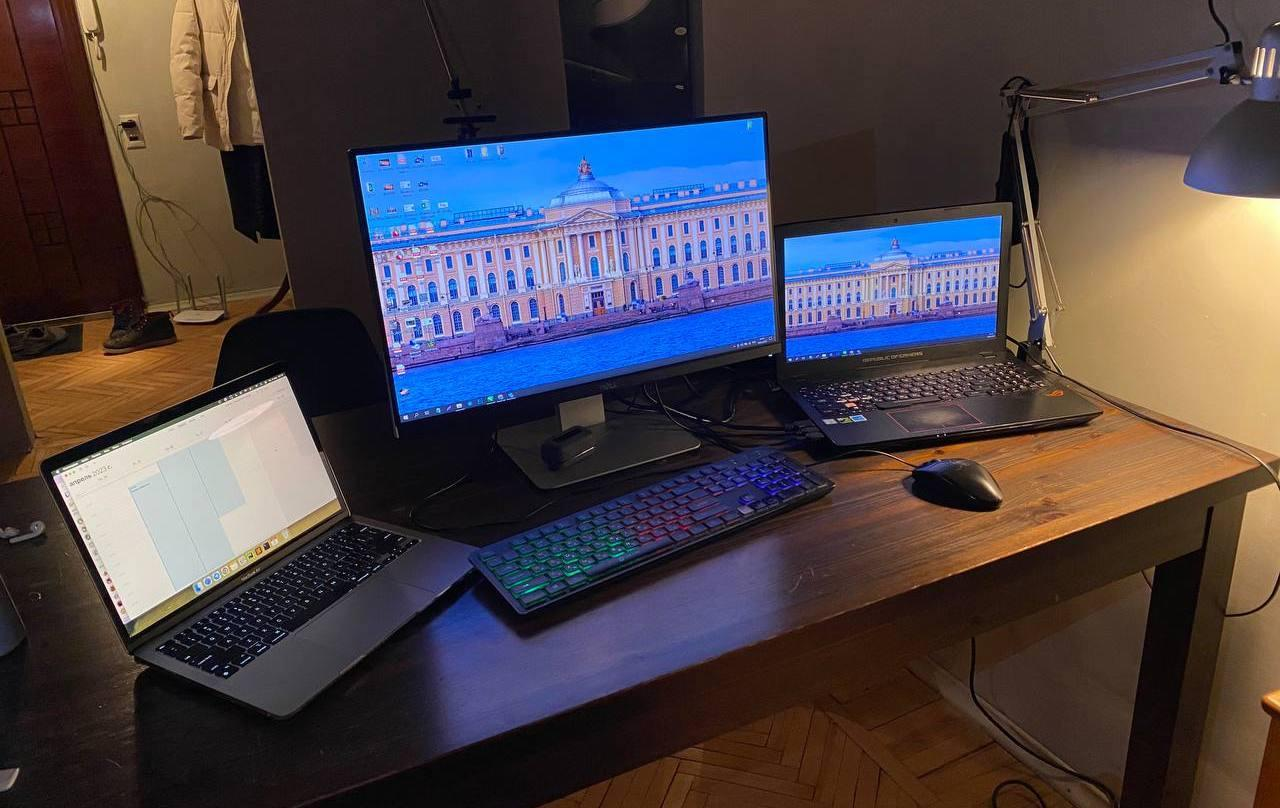monitor: (339, 103, 786, 448), (38, 356, 352, 658), (764, 195, 1020, 395)
